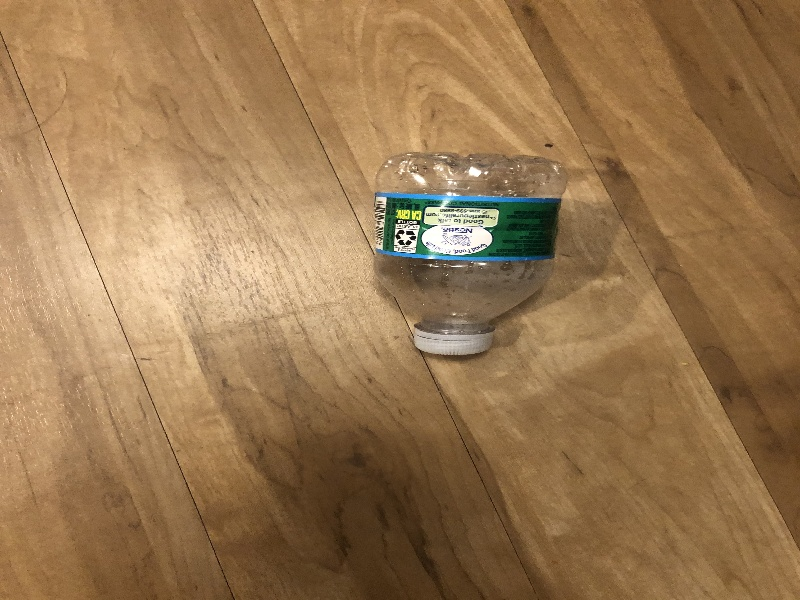plastic: (358, 146, 585, 362)
